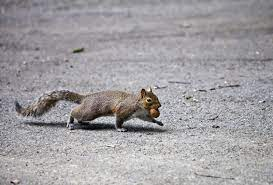squirrel: (13, 83, 166, 130)
